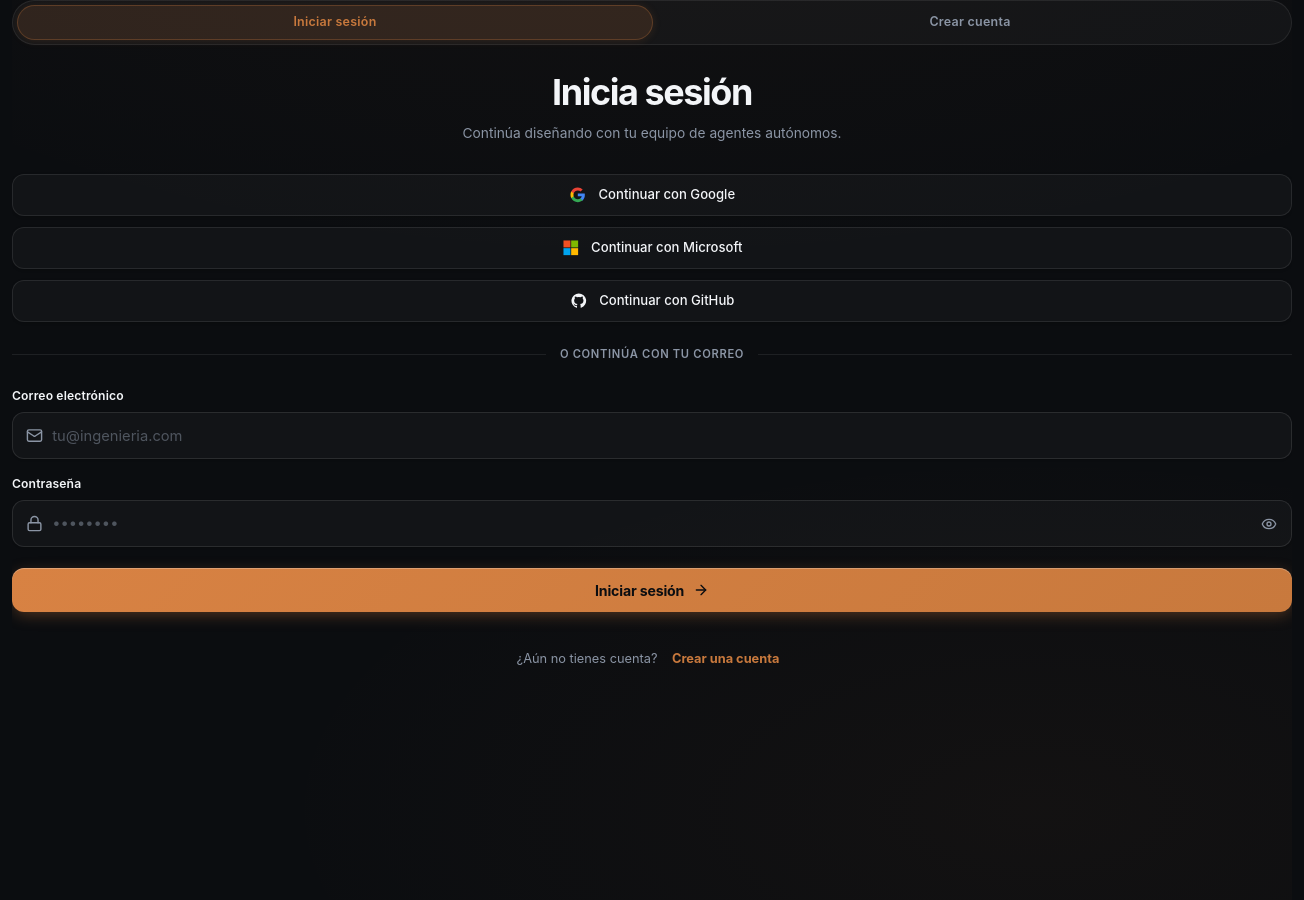
Test: AuthForm › announces a failed authentication result in a polite live region
Step 1. Type "ada@example.com" into the field labelled "Correo electrónico" → (652, 436), box [12,412,1292,459]
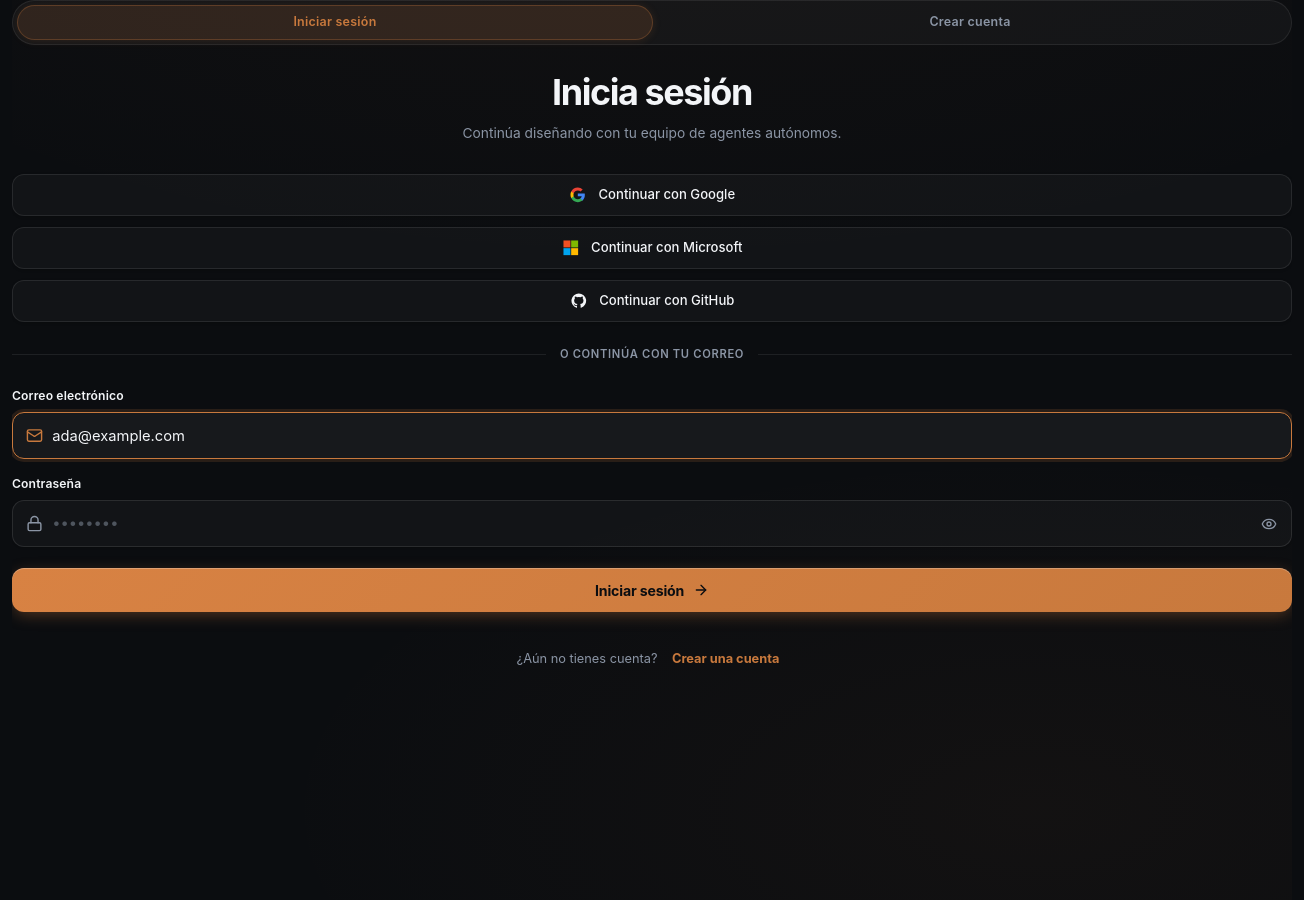
Step 2. Type "password123" into the password field labelled "Contraseña" → (652, 524), box [12,500,1292,547]
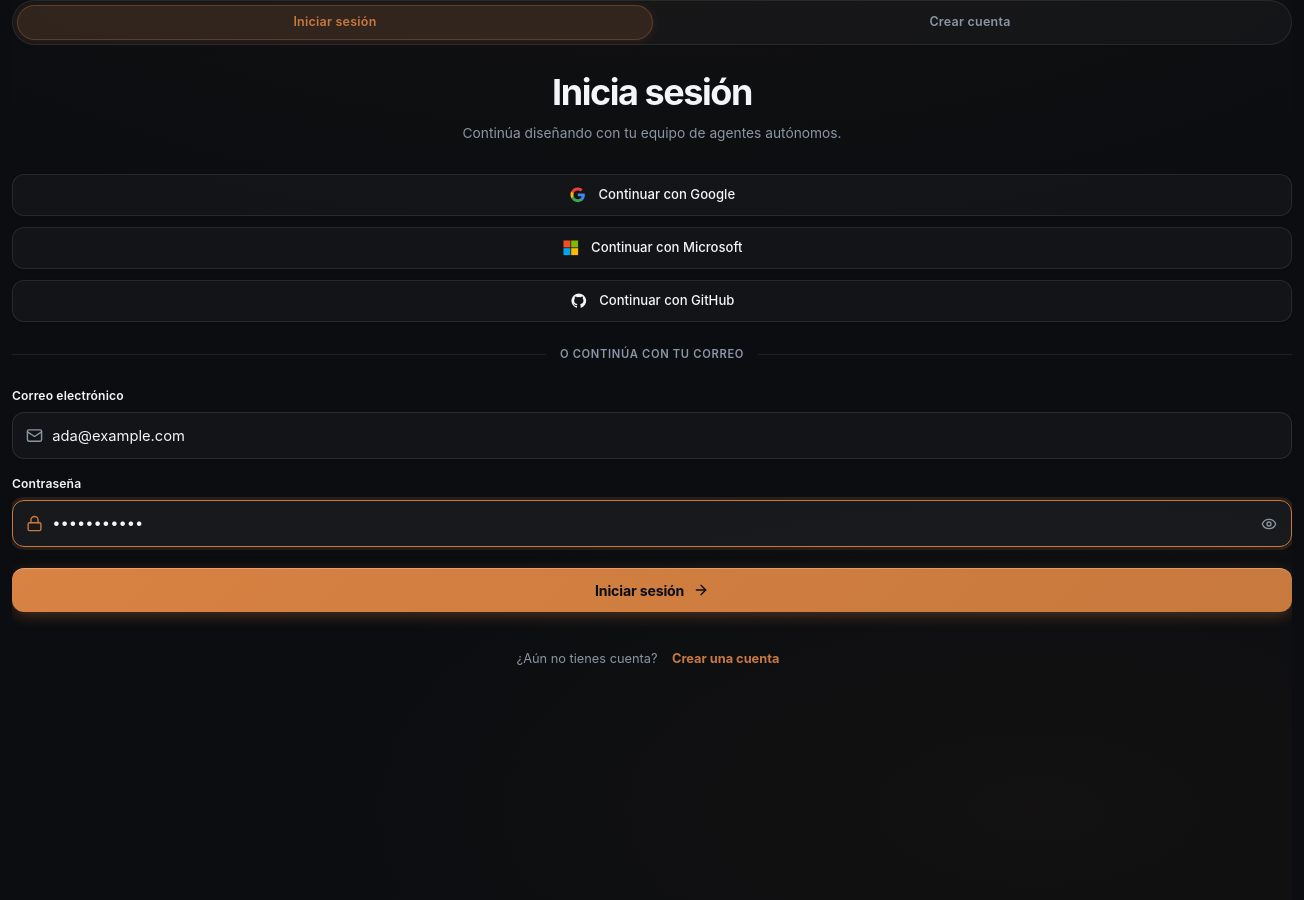
Step 3. Click the button "Iniciar sesión" → (652, 590), box [12,568,1292,612]
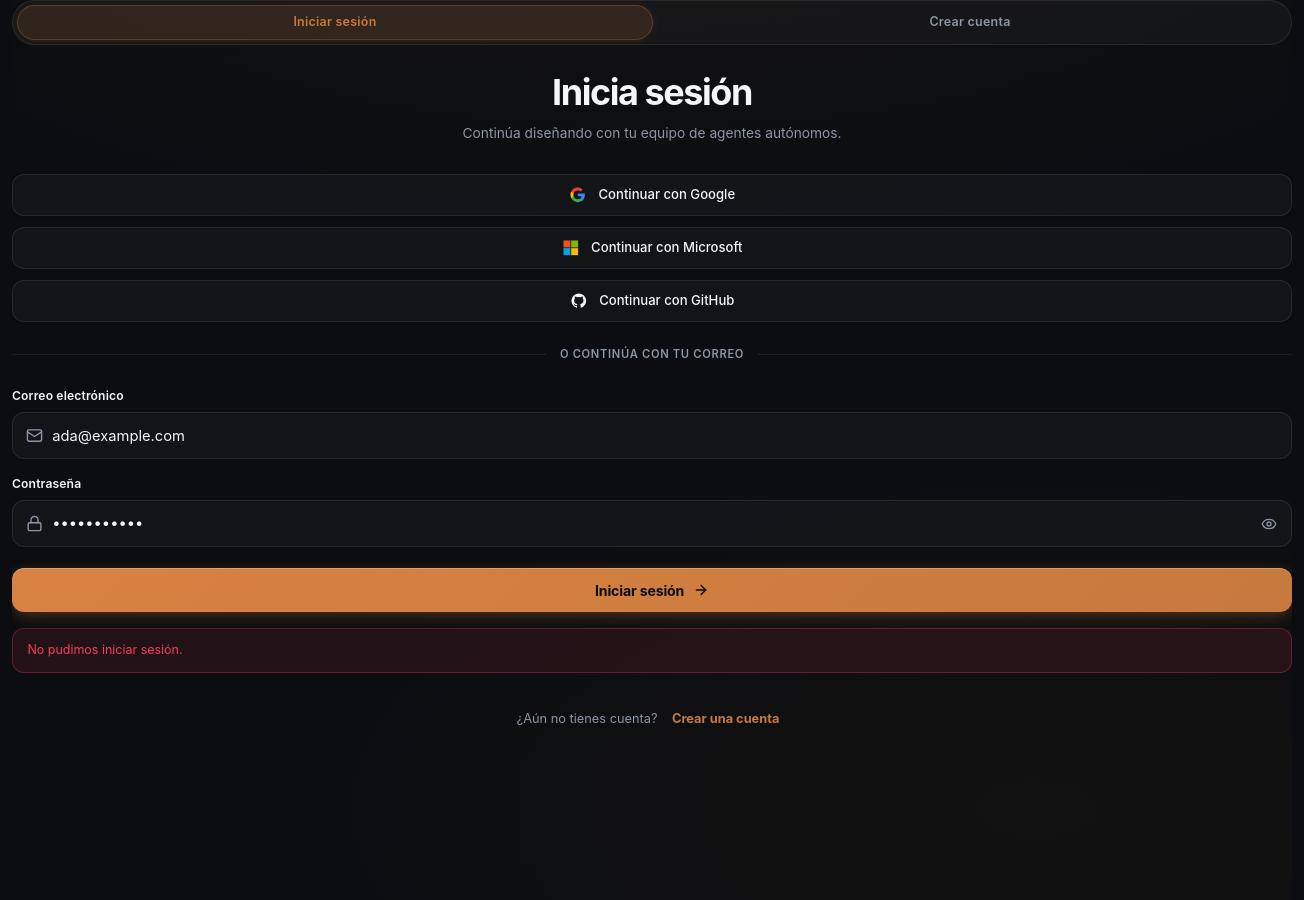
Now the message reads "No pudimos iniciar sesión.", box [27,642,183,657]
